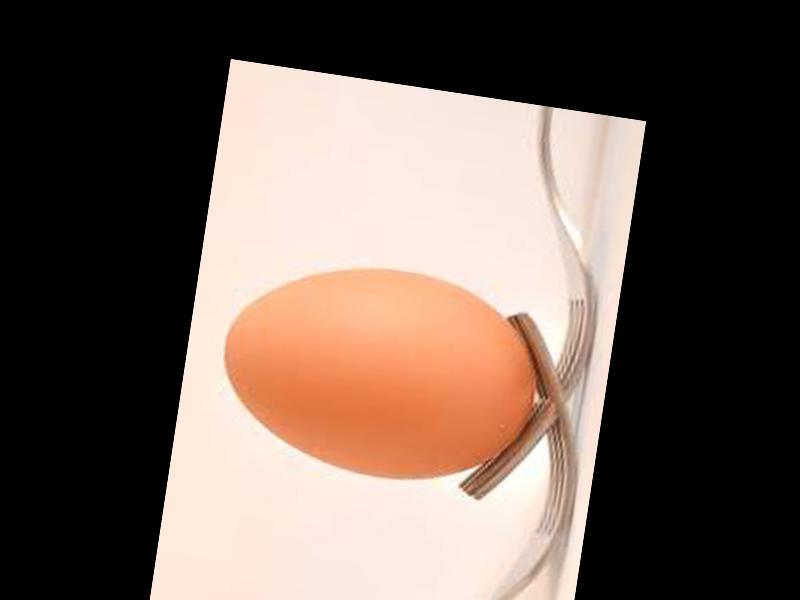Eggs: (210, 246, 549, 497)
